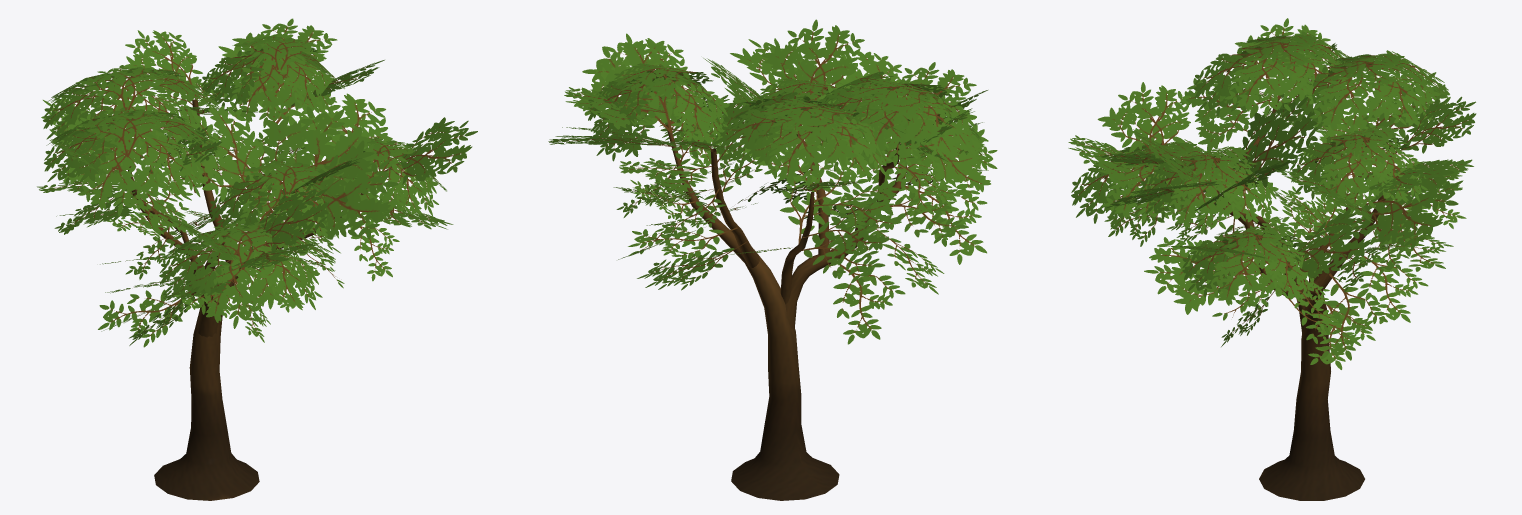
File: tree.glb
3 renders of one model, left to right at view 1: azimuth 30°, elevation 25°; view 2: azimuth 150°, elevation 25°; view 3: azimuth 270°, elevation 25°, orthographic. The views are drawn at different scales.
Visible parts, largest first — view 1: Cylinder001; view 2: Cylinder001; view 3: Cylinder001.
Boxes of the visible parts, x1=… form: Cylinder001: x1=37, y1=18, x2=477, y2=500; Cylinder001: x1=548, y1=19, x2=997, y2=500; Cylinder001: x1=1068, y1=18, x2=1476, y2=500.
Size of the model in its own units: 6 by 5.19 by 5.51.
Materials: 1 (1 with a texture image).
